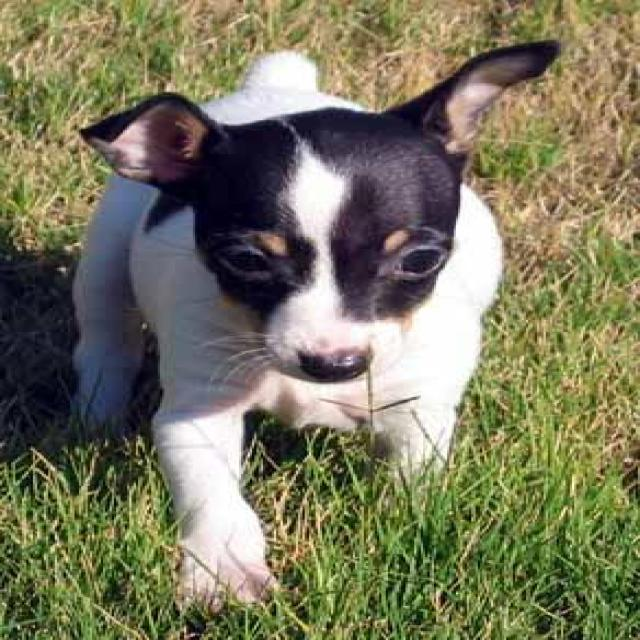toy_terrier: (64, 41, 574, 609)
